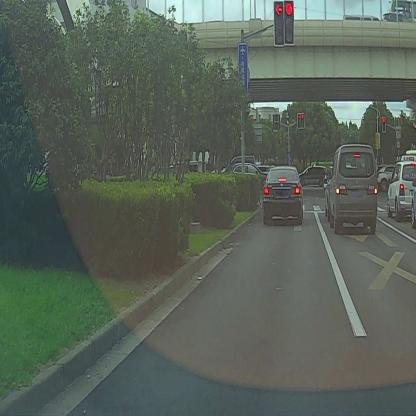Red Light: (273, 0, 284, 48), (283, 0, 294, 47), (382, 116, 387, 134)
